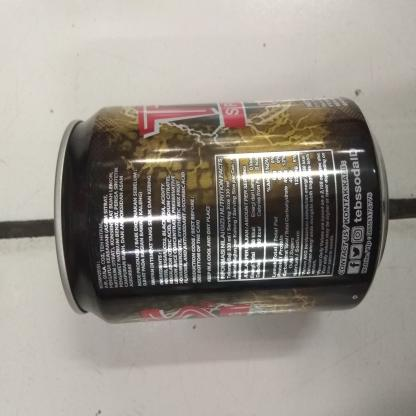mouse: (50, 92, 394, 327)
